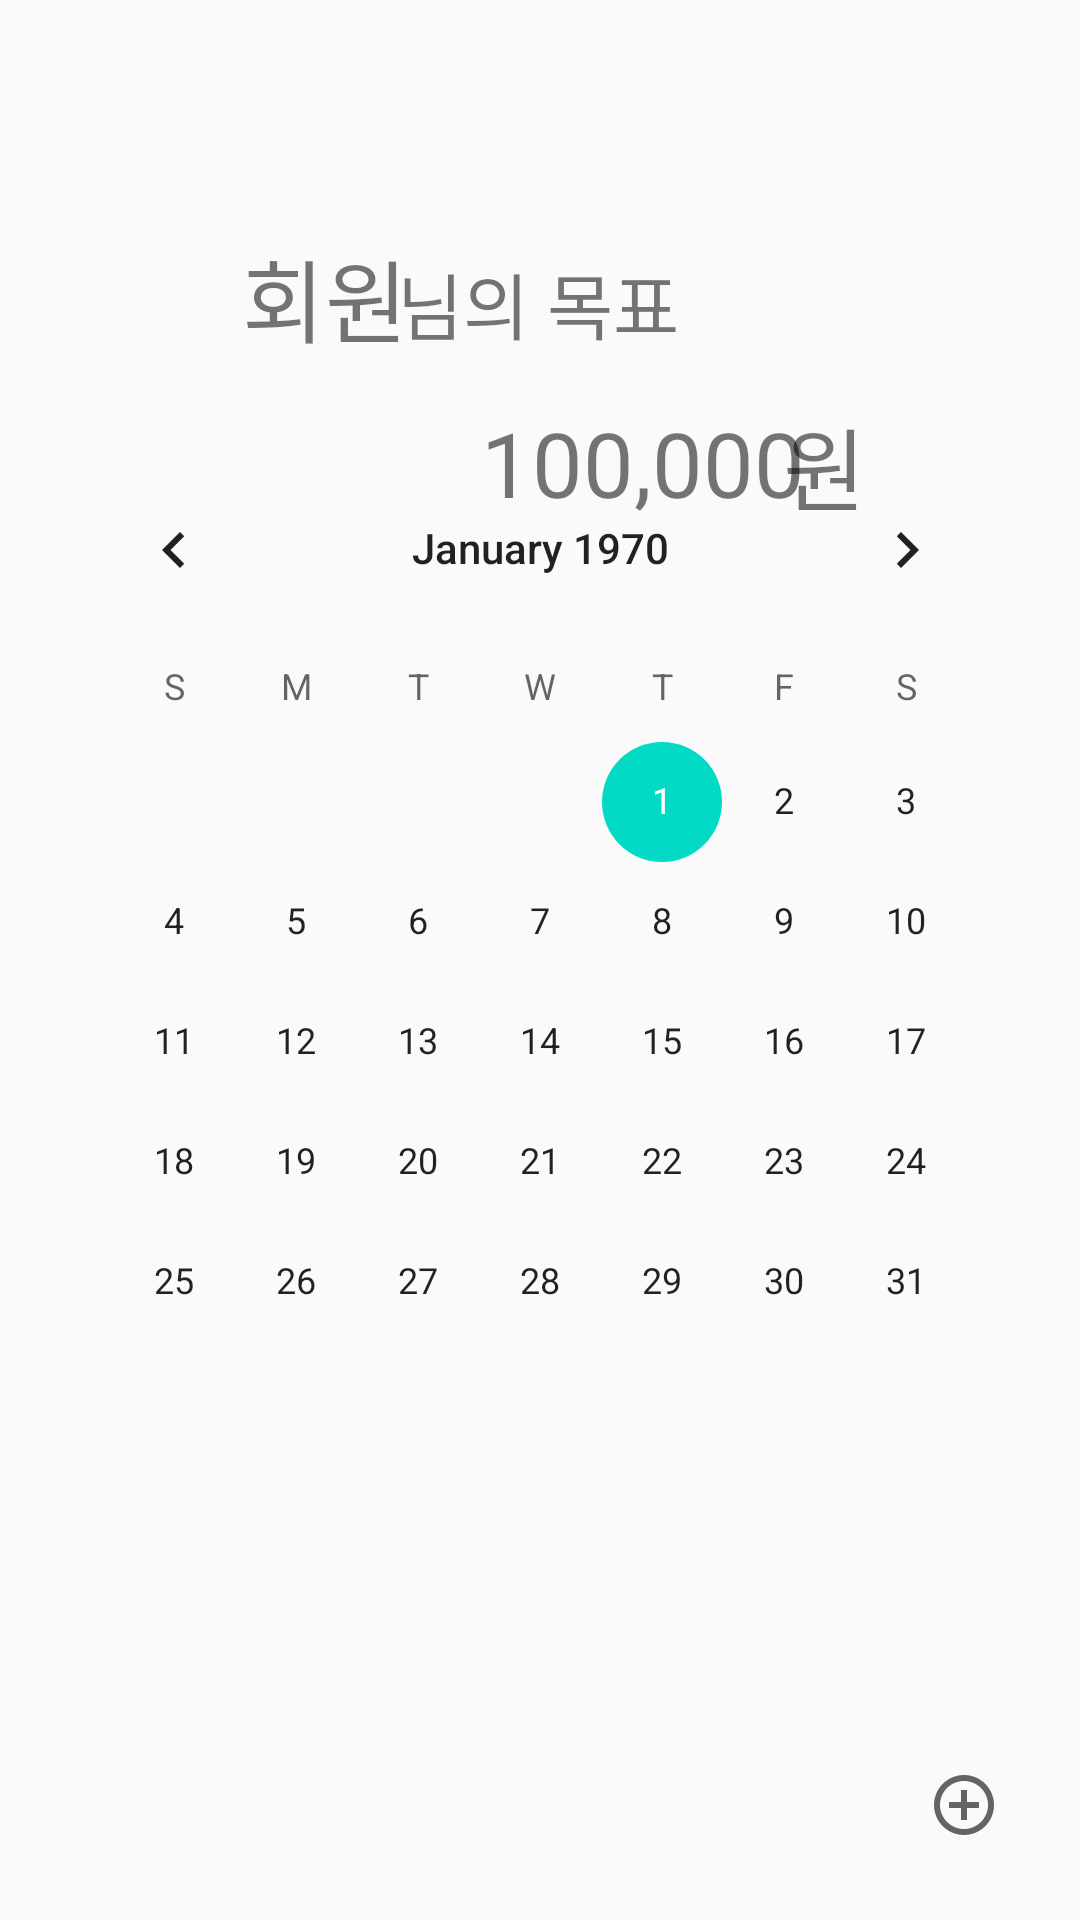

Named icons in this screenshot (1080 × 1920) and their centers, (x,y):
add circle: (964,1805)
